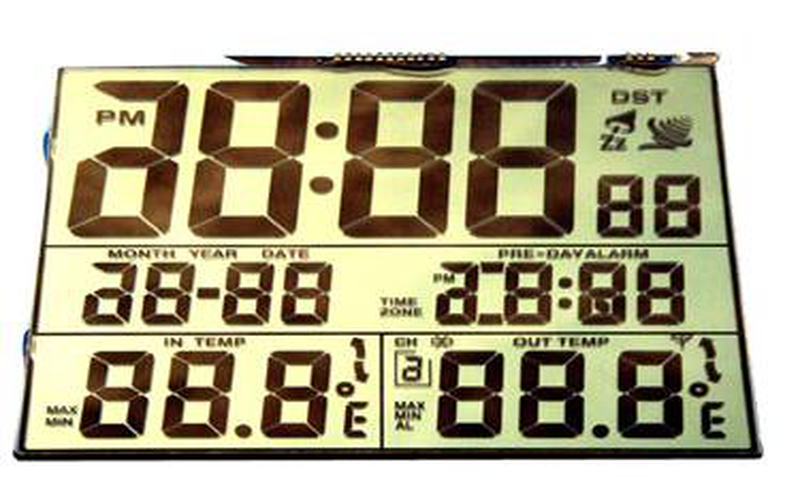LCD: (8, 37, 769, 467)
